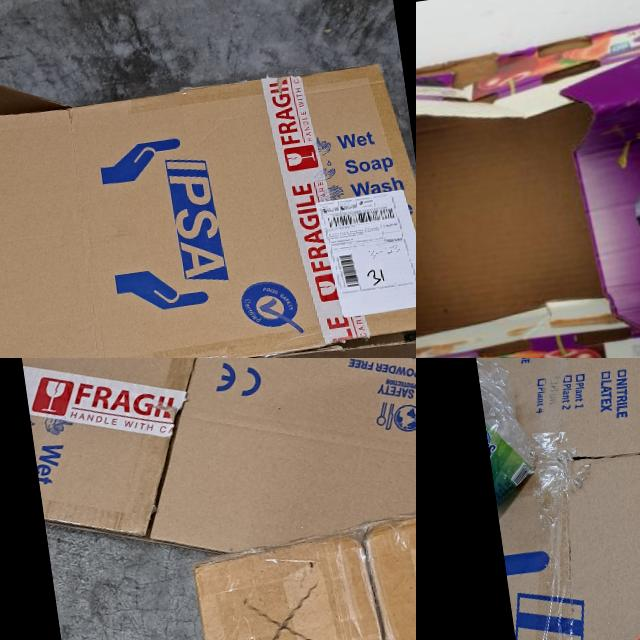garrafa plástica: (475, 358, 536, 506)
papelão: (0, 17, 416, 358), (17, 358, 416, 581), (416, 0, 640, 358), (457, 358, 640, 640), (187, 491, 416, 640)
